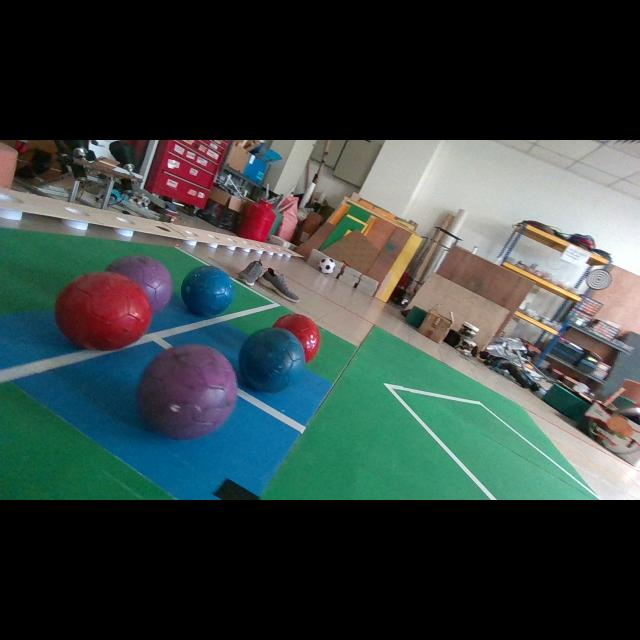B: (239, 328, 305, 392), (181, 266, 235, 317)
P: (138, 344, 238, 440), (106, 255, 172, 313)
R: (55, 271, 152, 351), (272, 314, 321, 362)
